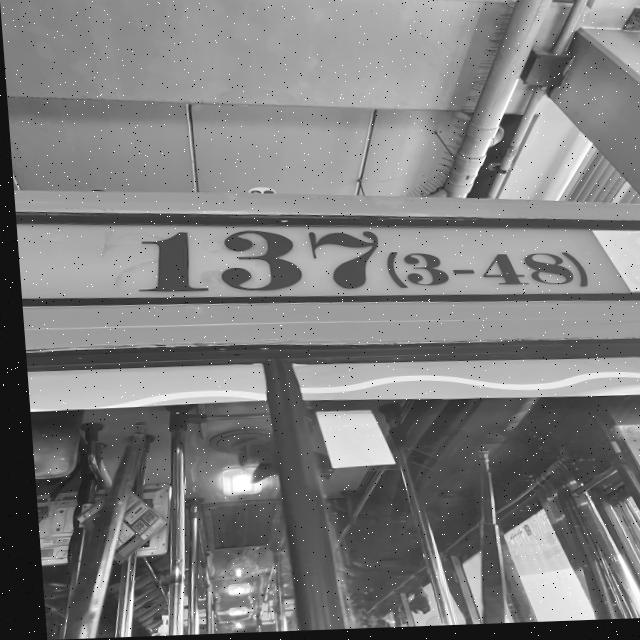BMTA-bus: (11, 169, 640, 640)
Bus-Line-Number: (126, 211, 593, 317)
